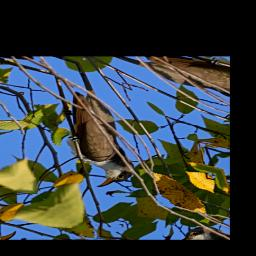Cuckoo: (0, 87, 171, 202)
